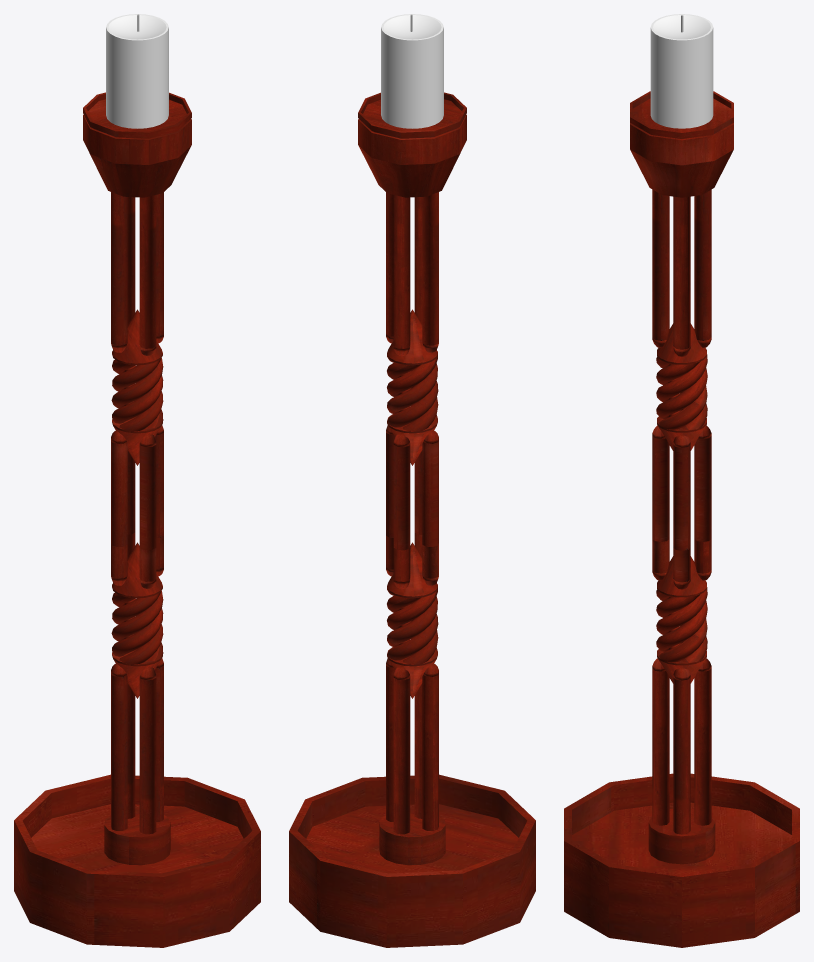
The picture shows the model from 3 angles, left to right: view 1: azimuth 30°, elevation 25°; view 2: azimuth 150°, elevation 25°; view 3: azimuth 270°, elevation 25°; orthographic projection.
Parts seen in each view (by area): view 1: 촛대 3; view 2: 촛대 3; view 3: 촛대 3.
Part boxes in pixels (x1,y1,x2,y2): 촛대 3: (14,14,260,947); 촛대 3: (289,14,535,947); 촛대 3: (564,14,799,947).
Size of the model in its own units: 8.45 by 33.13 by 8.04.
